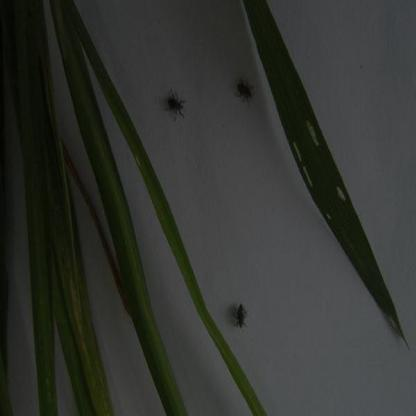rice-bug: (232, 298, 254, 329), (166, 88, 186, 119), (236, 78, 256, 106)
